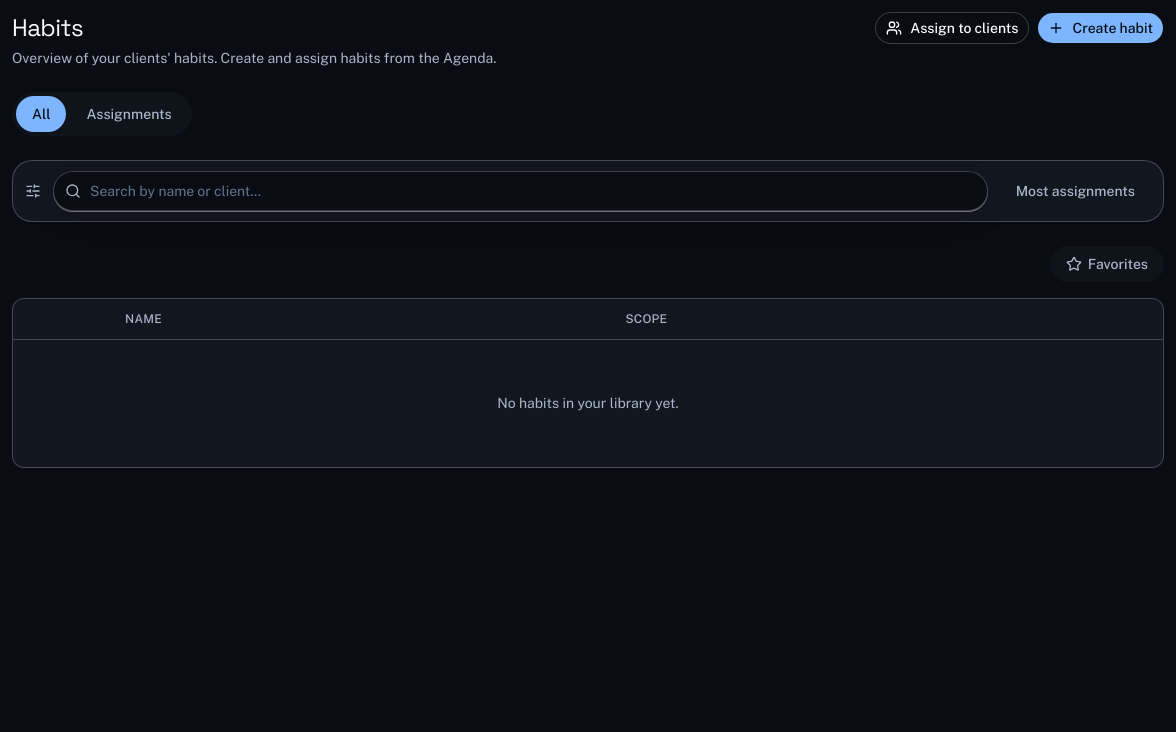
Test: Habits — assignment filters › narrows to one client and drops the other's habits
This screenshot has width=1176, height=732.
Click the button "Assignments" at (129, 114), box [70,96,188,132]
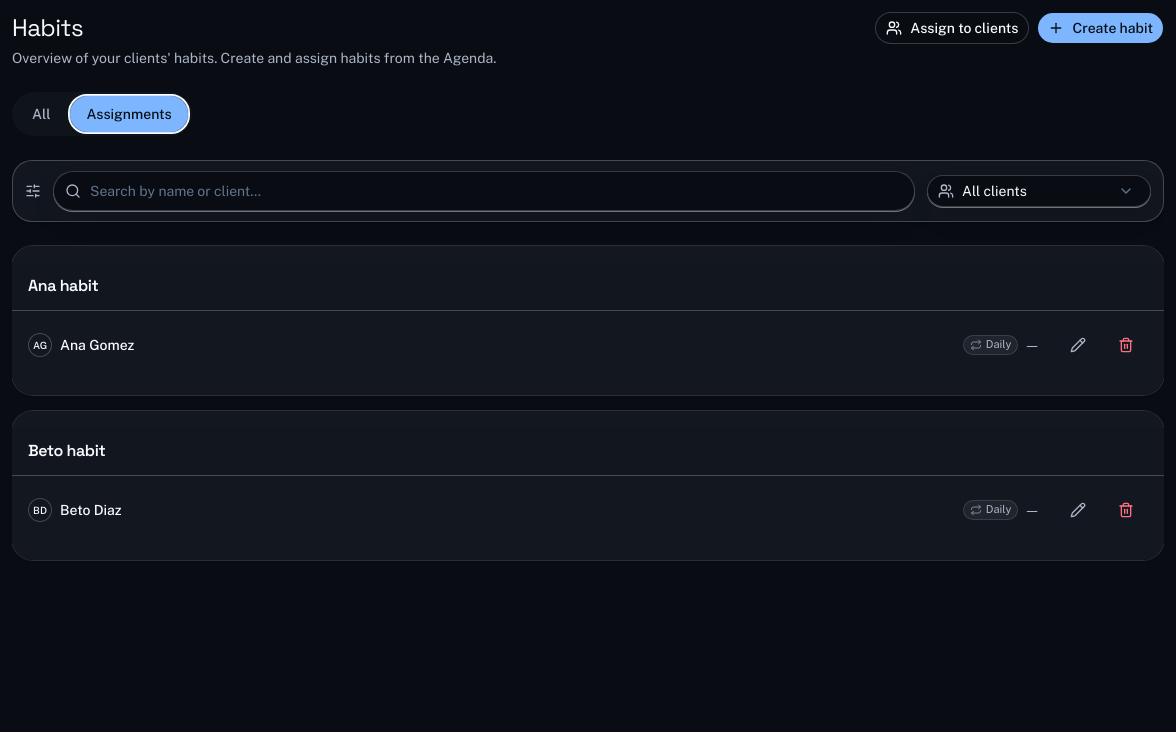
Result: the heading "Ana habit" is shown at [28,274,98,298]
Click the dropdown at (1039, 191), box [927,175,1151,207]
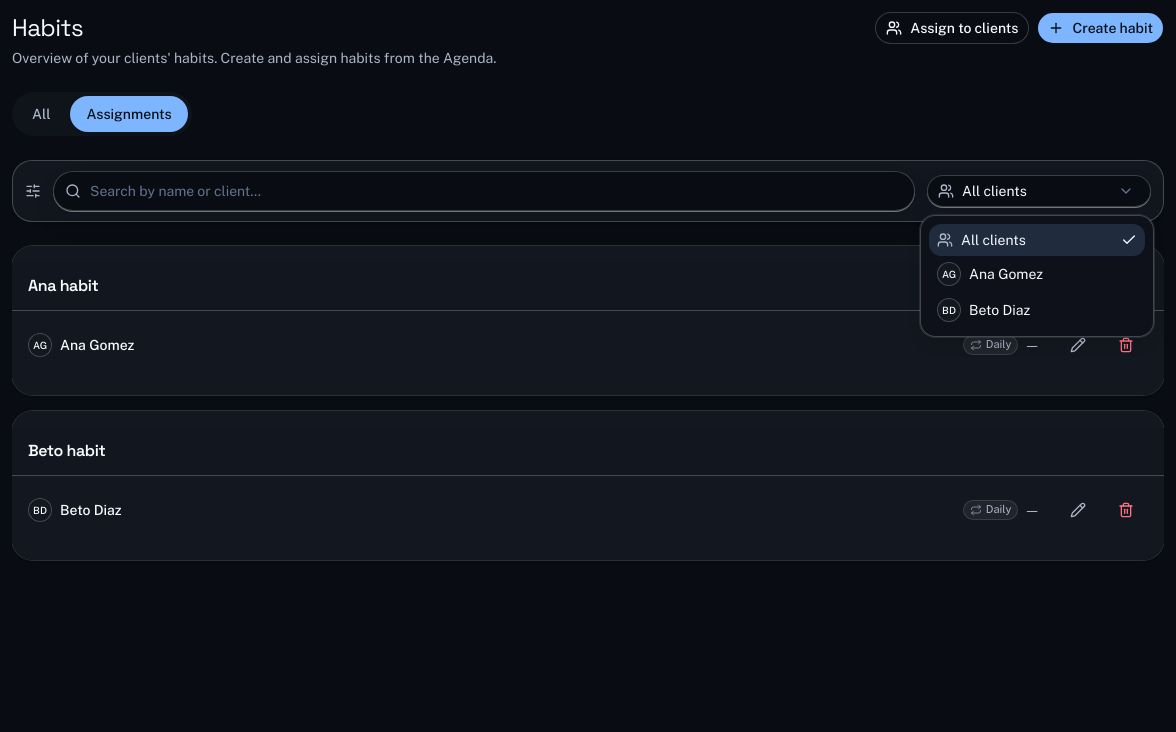
Click the option "BD Beto Diaz" at (984, 310), box [937,298,1030,322]
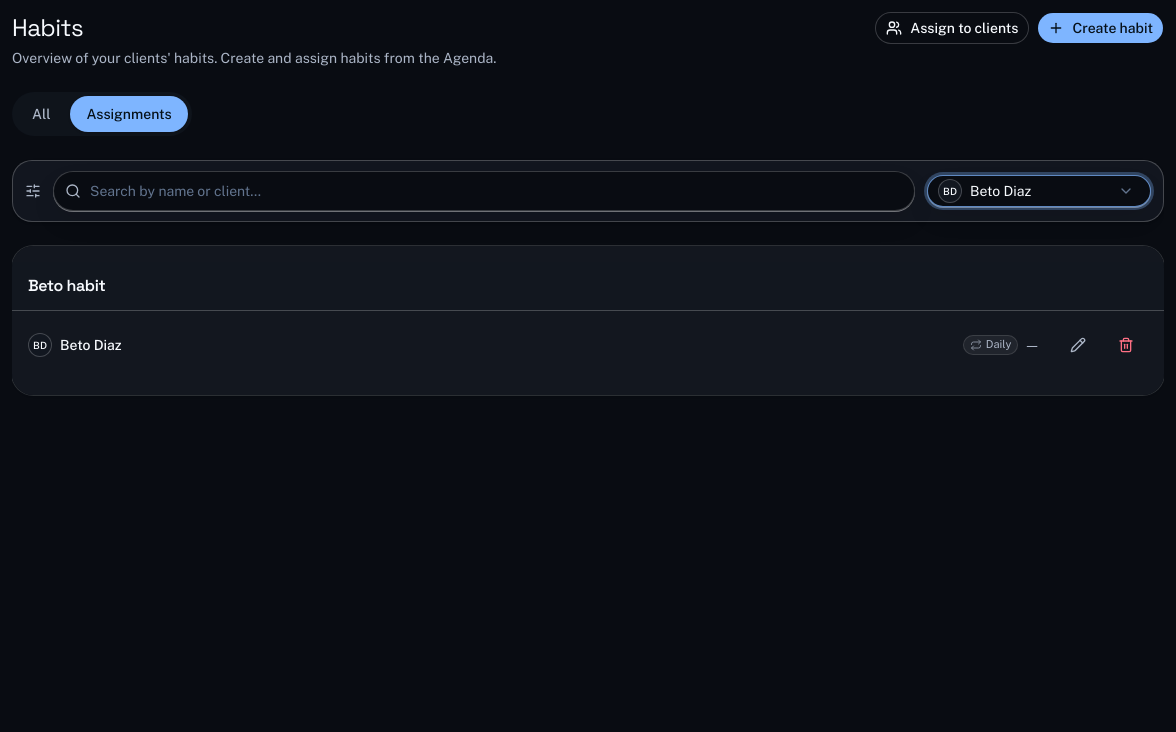
Result: the heading "Beto habit" is shown at [28,274,105,298]
Result: the heading "Ana habit" is gone
